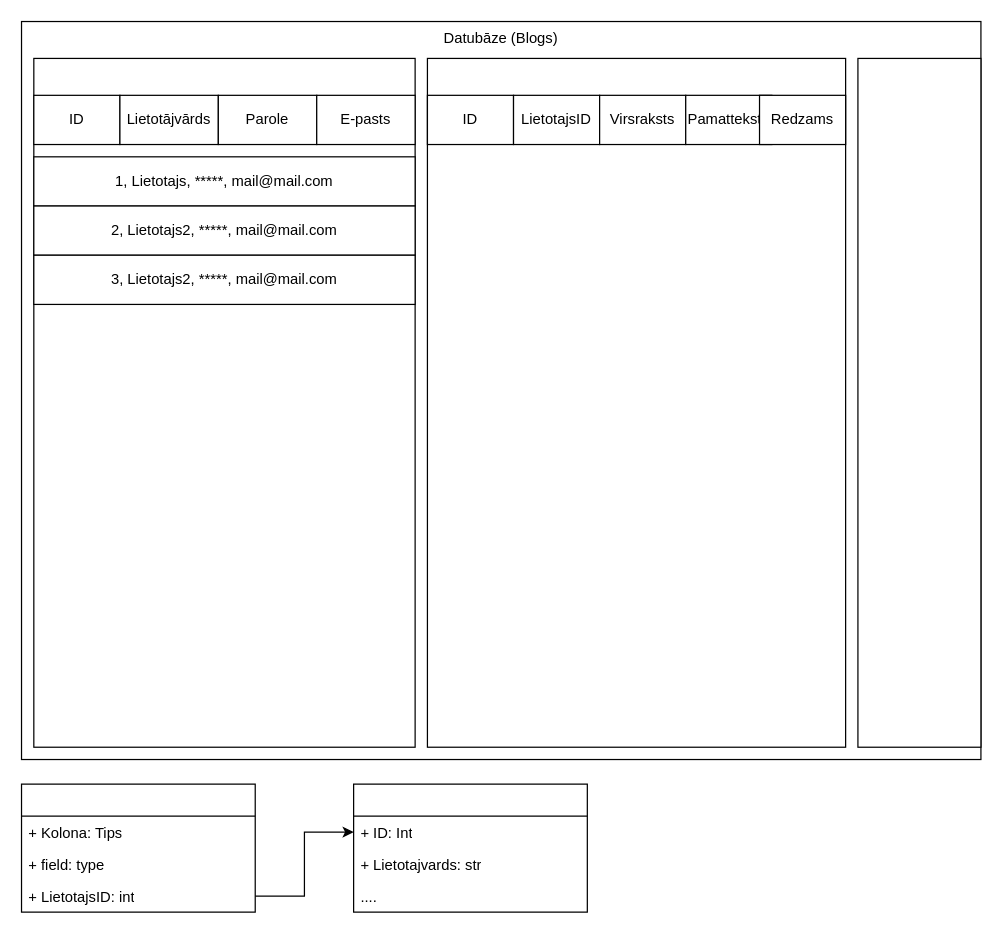
Image size: 1002x937. Some labels were removed from this diagram. The shapes that lost their labels are listed below. From the top down, each one's box as (x1, y1, x2, y2) in pixels, then its label:
(33, 57, 415, 747): Tabula 1 (Lietotāji)
(426, 57, 846, 747): Tabula 2 (Ieraksti)
(857, 57, 981, 747): Tabula n...
(20, 783, 255, 912): Tabula
(352, 783, 587, 912): Lietotajs
